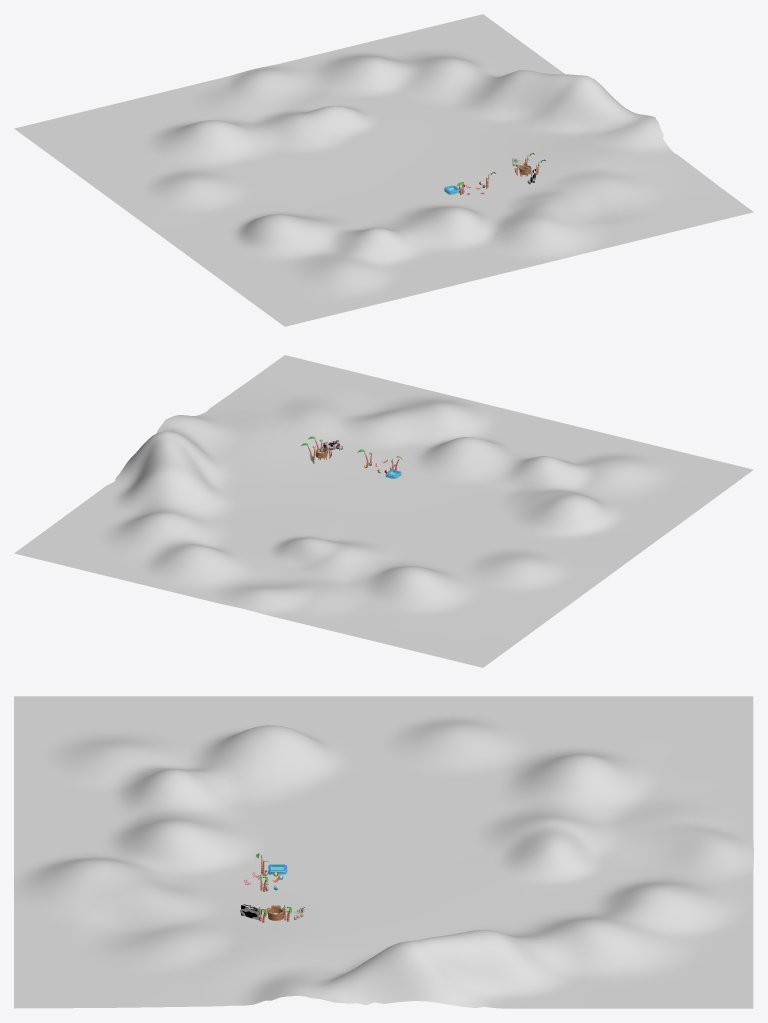
Rendered from VR Granja RODAS.fbx.
3 views of the same model, one above another, from view 1: azimuth 30°, elevation 25°; view 2: azimuth 150°, elevation 25°; view 3: azimuth 270°, elevation 25° (orthographic). The views are drawn at different scales.
Parts seen in each view (by area): view 1: Plane.074; view 2: Plane.074; view 3: Plane.074.
Boxes of the visible parts, bbox=[...] form: Plane.074: bbox=[14, 14, 753, 326]; Plane.074: bbox=[14, 355, 753, 667]; Plane.074: bbox=[14, 696, 753, 1008].
Size of the model in its own units: 20448 by 1465 by 20019.
